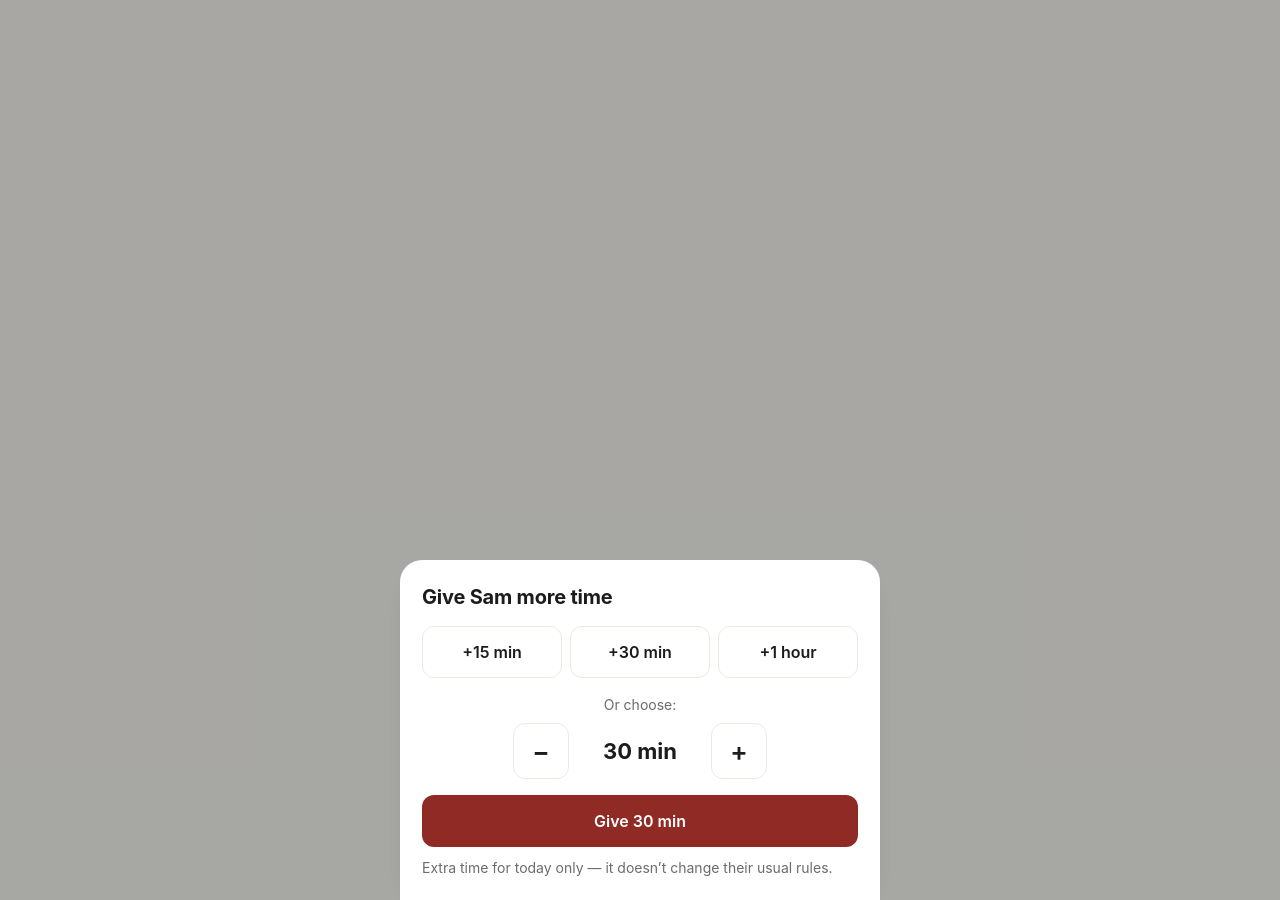
Scenario: LeverSheet › give › shows a send error and stays open
Click the button "+30 min" at [640, 652], box [570,626,710,678]
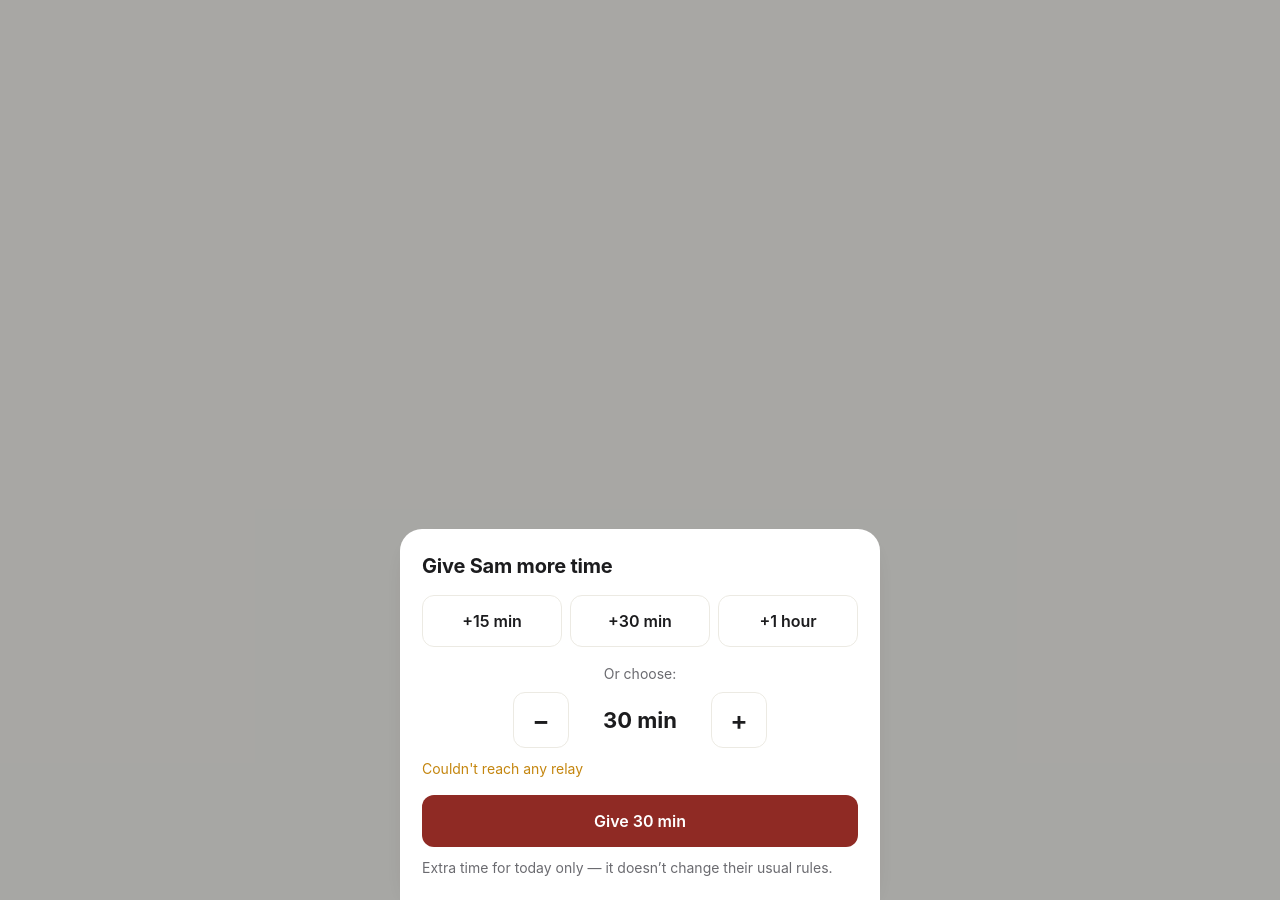
Expected: the message "Couldn't reach any relay" is shown, [422,760,583,777]
